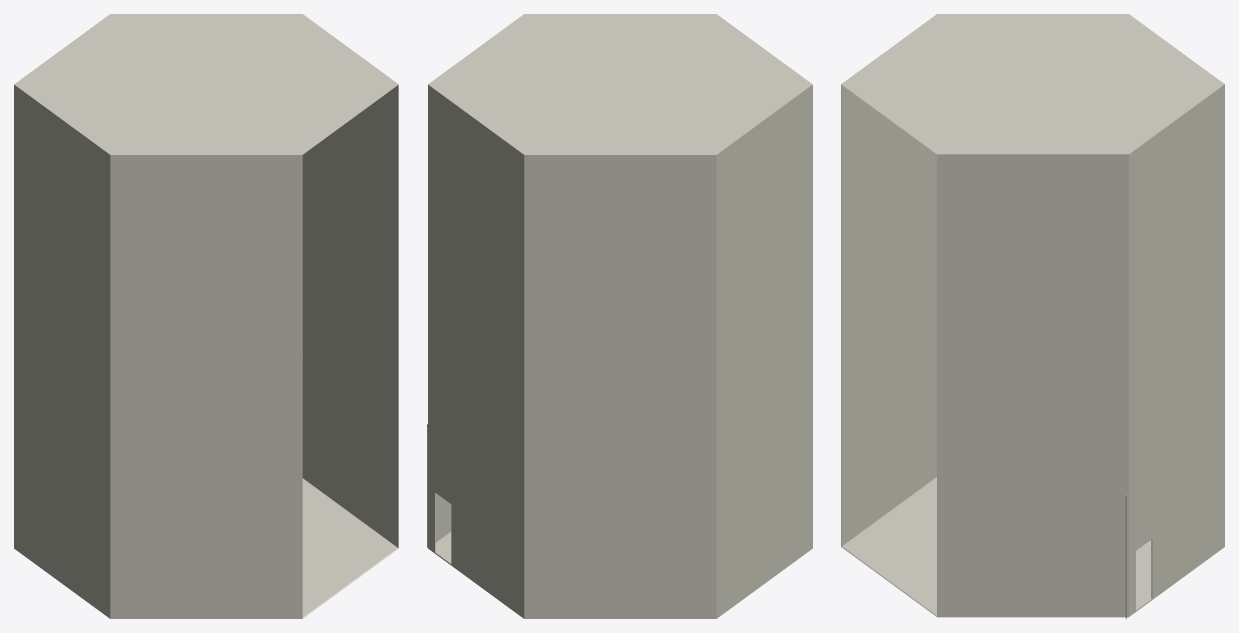
Rendered from scale guide (1).fbx.
The picture shows the model from 3 angles, left to right: view 1: azimuth 30°, elevation 25°; view 2: azimuth 150°, elevation 25°; view 3: azimuth 270°, elevation 25°; orthographic projection.
Parts seen in each view (by area): view 1: room; view 2: room; view 3: room.
Boxes of the visible parts, x1,y1,x2,y2 form: room: (14, 14, 398, 618); room: (428, 14, 812, 618); room: (841, 14, 1224, 617).
Size of the model in its own units: 263 by 402 by 302.
